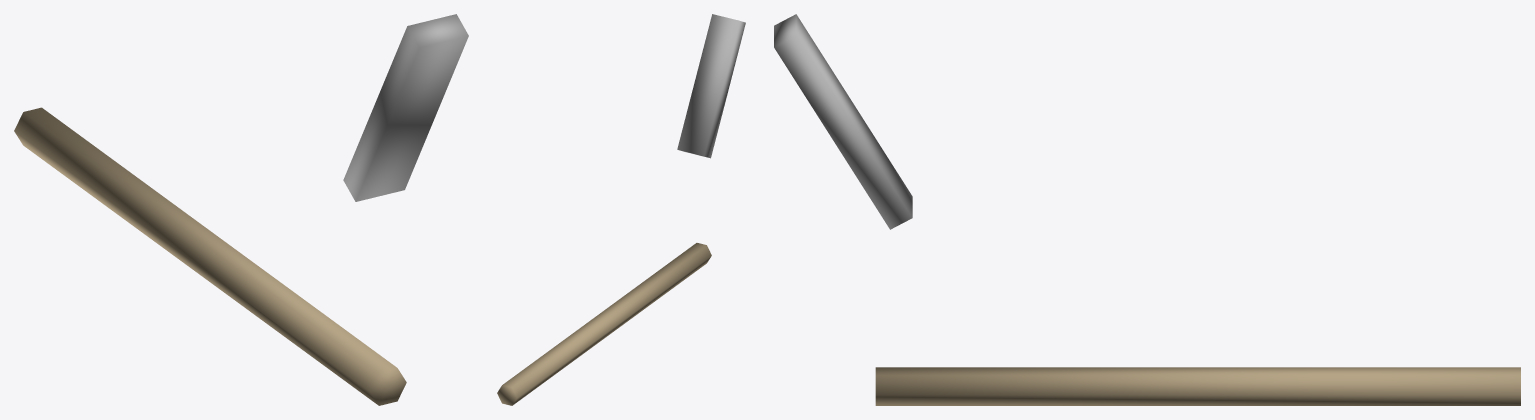
The model's file is prop_scythe.glb.
3 views of the same model, side by side, from view 1: azimuth 30°, elevation 25°; view 2: azimuth 150°, elevation 25°; view 3: azimuth 270°, elevation 25° (orthographic). The views are drawn at different scales.
Visible parts, largest first — view 1: handle, blade; view 2: handle, blade; view 3: handle, blade.
Boxes of the visible parts, bbox=[...] form: handle: bbox=[14, 107, 406, 405]; blade: bbox=[343, 14, 468, 201]; handle: bbox=[497, 243, 711, 405]; blade: bbox=[677, 14, 745, 158]; handle: bbox=[875, 367, 1520, 405]; blade: bbox=[774, 14, 912, 229].
Size of the model in its own units: 0.04 by 0.3222 by 0.5787.
